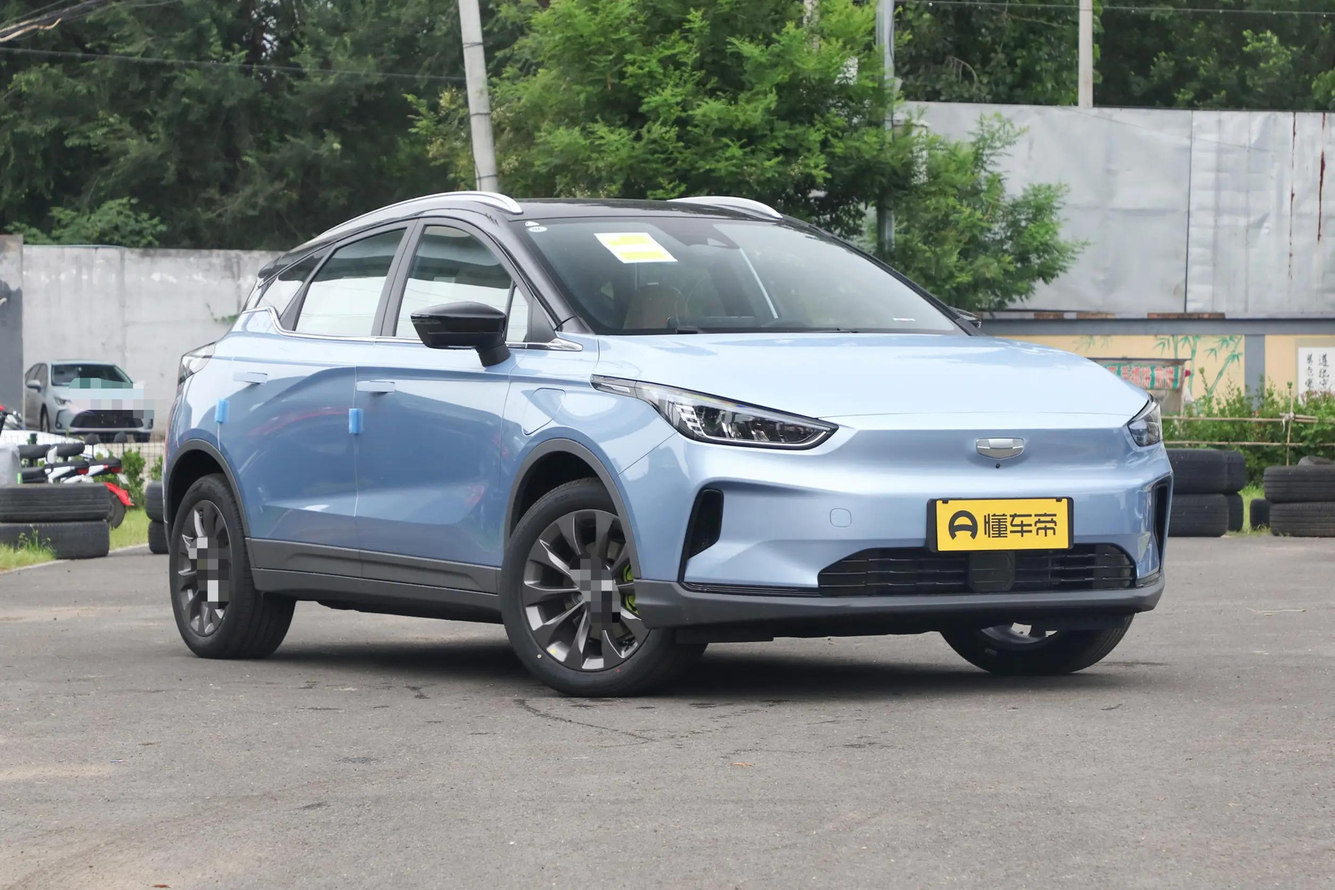GEOMETRY: (977, 439, 1023, 458)
